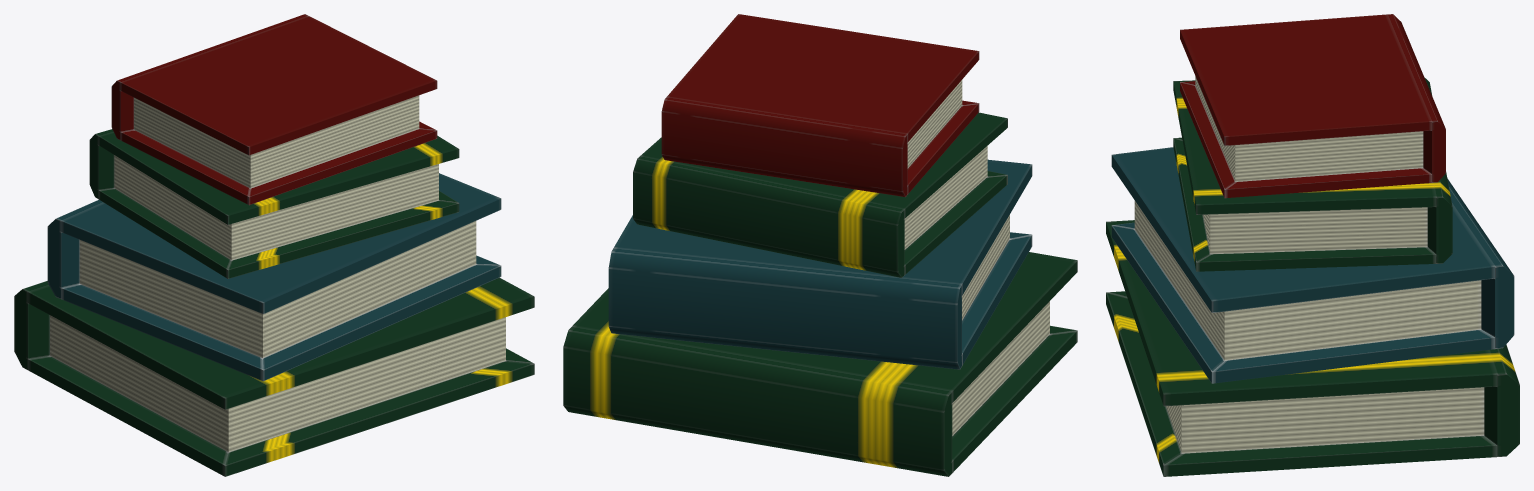
The model's file is bookstack3.fbx.
3 views of the same model, side by side, from view 1: azimuth 30°, elevation 25°; view 2: azimuth 150°, elevation 25°; view 3: azimuth 270°, elevation 25° (orthographic). The views are drawn at different scales.
Parts seen in each view (by area): view 1: book93, book94, book96, book95; view 2: book93, book94, book96, book95; view 3: book94, book93, book96, book95.
Part boxes in pixels (bbox=[...]): book93: bbox=[14, 277, 534, 476]; book94: bbox=[47, 173, 501, 381]; book96: bbox=[111, 14, 437, 205]; book95: bbox=[89, 129, 459, 278]; book93: bbox=[563, 252, 1077, 476]; book94: bbox=[608, 159, 1032, 369]; book96: bbox=[661, 14, 979, 197]; book95: bbox=[633, 112, 1007, 277]; book94: bbox=[1111, 147, 1514, 383]; book93: bbox=[1106, 220, 1519, 476]; book96: bbox=[1180, 14, 1445, 198]; book95: bbox=[1173, 77, 1452, 271].
Size of the model in its own units: 4.81 by 3.52 by 4.34.
